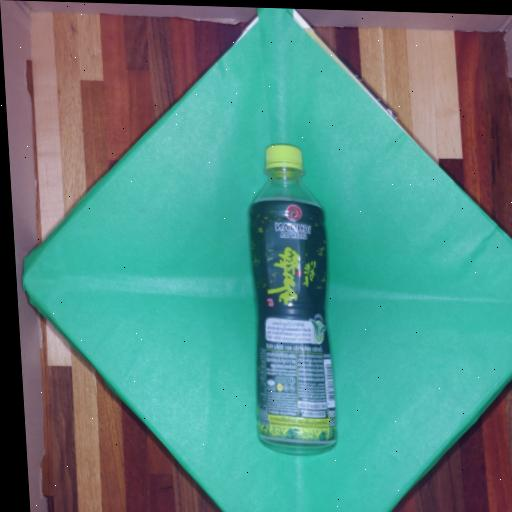bottle: (249, 145, 335, 453)
